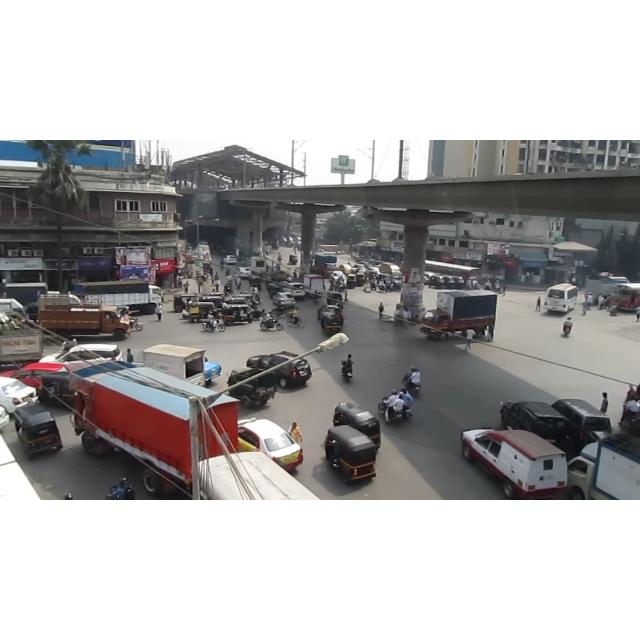auto: (325, 426, 390, 482), (12, 404, 66, 460), (333, 400, 383, 456), (33, 371, 79, 411), (220, 302, 263, 326), (319, 310, 346, 340), (444, 271, 459, 293), (432, 271, 445, 289), (289, 253, 299, 267), (347, 274, 357, 288), (359, 273, 365, 287)
truck: (70, 360, 238, 497), (567, 434, 640, 500), (37, 294, 131, 340), (420, 290, 498, 340), (73, 280, 163, 314), (143, 344, 205, 386), (303, 275, 325, 293), (249, 257, 267, 275)
